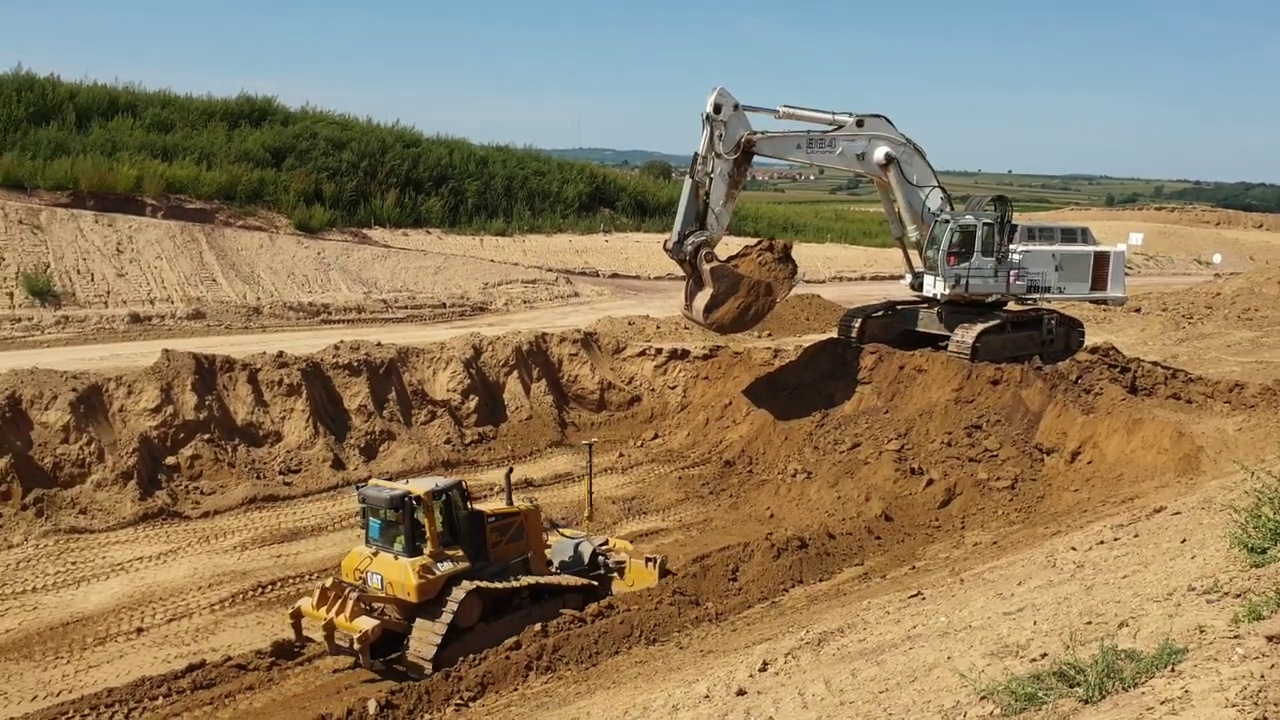bulldozer: (284, 433, 678, 681)
excavator: (656, 78, 1133, 372)
